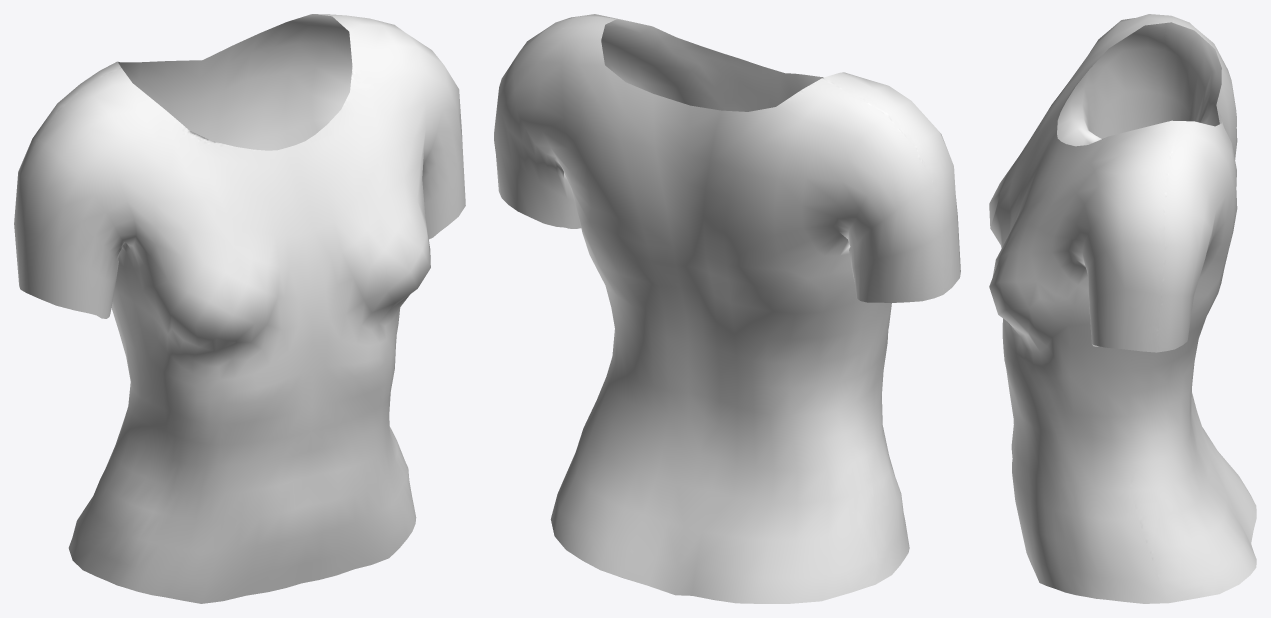
Rendered from elvs-crude-t-shirt-male.glb.
The picture shows the model from 3 angles, left to right: view 1: azimuth 30°, elevation 25°; view 2: azimuth 150°, elevation 25°; view 3: azimuth 270°, elevation 25°; orthographic projection. The views are drawn at different scales.
Visible parts, largest first — view 1: Human.elvs_crude_t-shirt_male; view 2: Human.elvs_crude_t-shirt_male; view 3: Human.elvs_crude_t-shirt_male.
Boxes of the visible parts, box(x1,y1,x2,y2) form: Human.elvs_crude_t-shirt_male: box(14, 14, 465, 603); Human.elvs_crude_t-shirt_male: box(494, 14, 960, 603); Human.elvs_crude_t-shirt_male: box(989, 14, 1256, 603).
Bounding box in the file's own units: 0.442 × 0.4847 × 0.248.
1 material, 1 textured.
